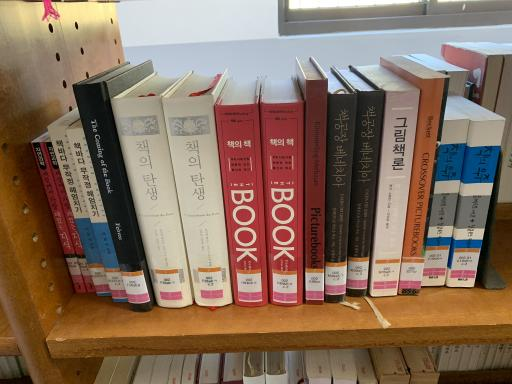book-spine: (73, 83, 153, 312), (111, 96, 192, 308), (161, 95, 233, 307), (398, 76, 450, 295), (214, 104, 268, 306), (48, 126, 112, 296), (66, 128, 128, 302), (372, 91, 420, 297), (448, 120, 504, 287), (261, 101, 303, 306), (31, 143, 87, 293), (421, 119, 469, 286), (45, 143, 96, 292), (347, 91, 383, 296), (326, 94, 358, 303), (306, 79, 327, 304)
